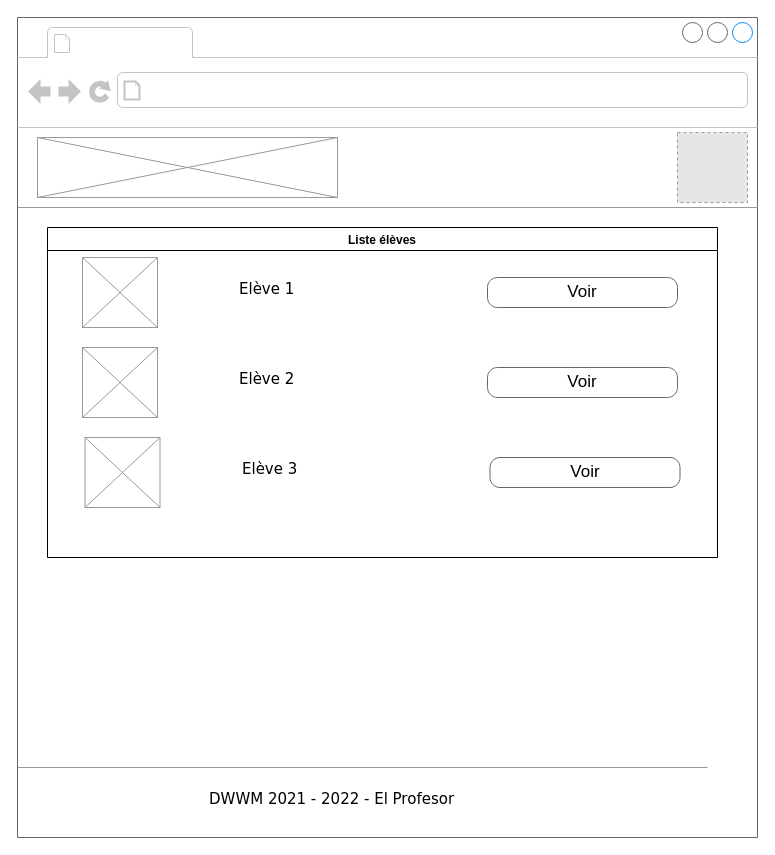
Some shapes in this 775 by 855 pixel diagram are drawn without their labels. Grey dashed boxes stand in for pictures. Here are the shapes that lost their labels. From the top down, the box of each, then its label:
(76, 28, 188, 56): Page 1
(146, 76, 398, 104): https://www.default.com
